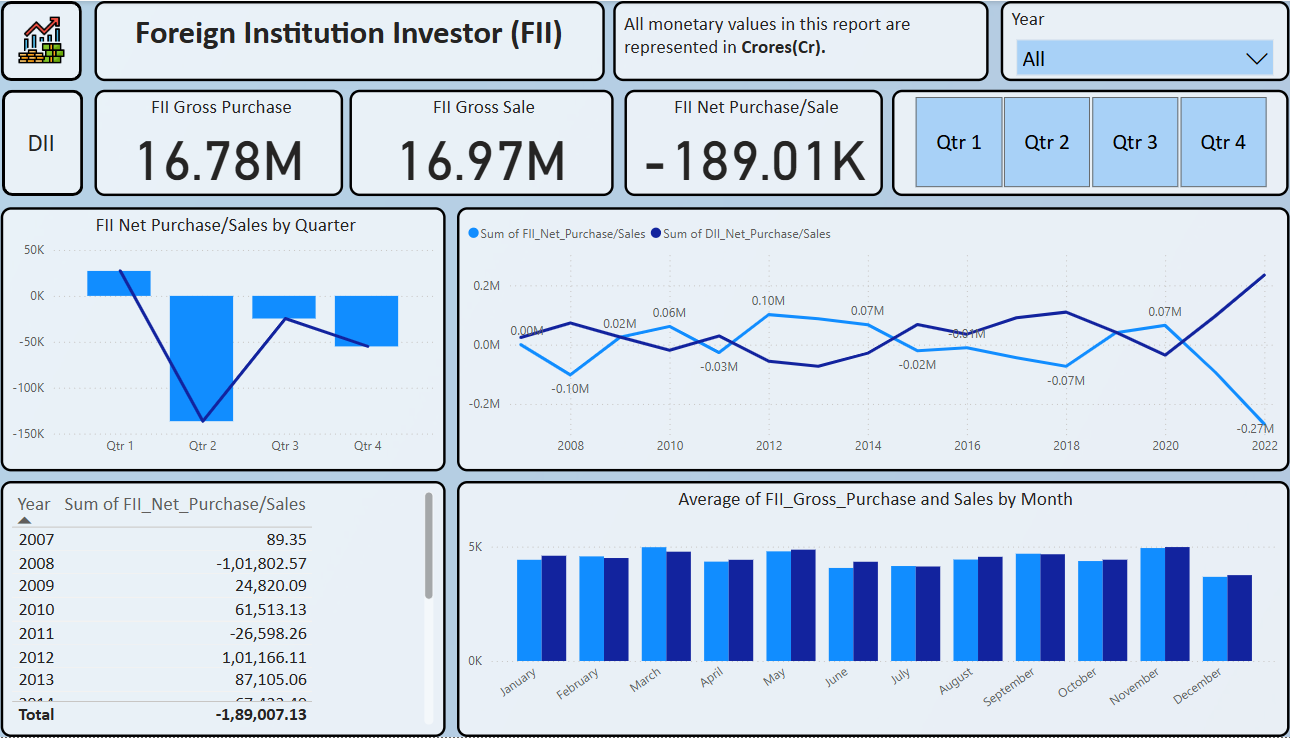

The dashboard page shown, as its layout file describes it:
{"tool":"powerbi","page":{"name":"FII","canvas":[1280,720],"ordinal":0},"visuals":[{"type":"textbox","box":[100.3,0,498.9,78.3],"z":0},{"type":"shape","box":[8.6,0,79.5,78.3],"z":1000},{"type":"image","box":[19.6,7.3,58.7,62.4],"z":2000},{"type":"textbox","box":[607.7,0,366.8,78.3],"z":3000},{"type":"shape","box":[9.8,86.8,79.5,103.9],"z":5000},{"type":"card","title":"FII Gross Purchase","fields":{"Values":["Sum(Fii Dii Trading activity.FII_Gross_Purchase)"]},"box":[100.3,86.8,243.3,103.9],"z":6000},{"type":"card","title":"FII Gross Sale","fields":{"Values":["Sum(Fii Dii Trading activity.FII_Gross_Sales)"]},"box":[349.7,86.8,258,103.9],"z":7000},{"type":"card","title":"FII Net Purchase/Sale","fields":{"Values":["Sum(Fii Dii Trading activity.FII_Net_Purchase/Sales)"]},"box":[618.8,86.8,253.1,103.9],"z":8000},{"type":"slicer","fields":{"Values":["Custom_calendar.Date.Variation.Date Hierarchy.Quarter"]},"box":[880.4,86.8,387.6,103.9],"z":9000},{"type":"slicer","title":"Year","fields":{"Values":["Custom_calendar.Date.Variation.Date Hierarchy.Year"]},"box":[986.8,0,282.5,78.3],"z":10000},{"type":"lineChart","title":"FII_Net_Purchase&Sales and DII_Net_Purchase&Sales by Year","fields":{"Y":["Sum(Fii Dii Trading activity.FII_Net_Purchase/Sales)","Sum(Fii Dii Trading activity.DII_Net_Purchase/Sales)"],"Category":["Custom_calendar.Date.Variation.Date Hierarchy.Year"]},"box":[454.9,201.8,814.4,258],"z":11000},{"type":"lineStackedColumnComboChart","title":"FII Net Purchase/Sales  by Quarter","fields":{"Category":["Custom_calendar.Date.Variation.Date Hierarchy.Quarter"],"Y":["Sum(Fii Dii Trading activity.FII_Net_Purchase/Sales)"],"Y2":["Sum(Fii Dii Trading activity.FII_Net_Purchase/Sales)"]},"box":[8.6,201.8,435.3,258],"z":12000},{"type":"clusteredColumnChart","title":"Average of FII_Gross_Purchase and Sales by Month","fields":{"Category":["Custom_calendar.Date.Variation.Date Hierarchy.Month"],"Y":["Avg(Fii Dii Trading activity.FII_Gross_Purchase)","Avg(Fii Dii Trading activity.FII_Gross_Sales)"]},"box":[454.9,469.6,814.4,250.7],"z":13000},{"type":"tableEx","fields":{"Values":["Custom_calendar.Date.Variation.Date Hierarchy.Year","Sum(Fii Dii Trading activity.FII_Net_Purchase/Sales)"]},"box":[9,470,435,250],"z":14000},{"type":"pageNavigator","box":[13.5,101.5,69.7,75.8],"z":15000}]}

Visuals, with their boxes in screenshot pixels (x1, y1, x2, y2), scaled from the page's 1280x720 canvas onto the 1290x738 screenshot:
textbox: 101:0:604:80
shape: 9:0:89:80
image: 20:7:79:71
textbox: 612:0:982:80
shape: 10:89:90:195
"FII Gross Purchase" card: 101:89:346:195
"FII Gross Sale" card: 352:89:612:195
"FII Net Purchase/Sale" card: 624:89:879:195
slicer - Custom_calendar.Date.Variation.Date Hierarchy.Quarter: 887:89:1278:195
"Year" slicer: 995:0:1279:80
"FII_Net_Purchase&Sales and DII_Net_Purchase&Sales by Year" lineChart: 458:207:1279:471
"FII Net Purchase/Sales  by Quarter" lineStackedColumnComboChart: 9:207:447:471
"Average of FII_Gross_Purchase and Sales by Month" clusteredColumnChart: 458:481:1279:737
tableEx - Custom_calendar.Date.Variation.Date Hierarchy.Year x Sum(Fii Dii Trading activity.FII_Net_Purchase/Sales): 9:482:447:737
pageNavigator: 14:104:84:182
